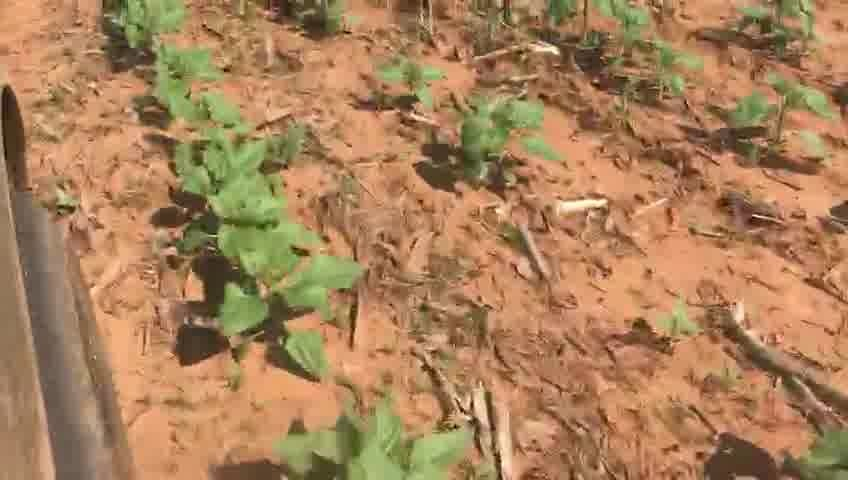sunflower: (196, 215, 378, 379), (271, 391, 500, 474), (159, 114, 313, 231), (437, 90, 573, 174), (735, 70, 832, 166), (138, 44, 242, 130), (707, 411, 840, 478), (620, 37, 700, 105), (99, 6, 192, 53), (369, 53, 443, 110), (584, 3, 650, 62), (645, 292, 704, 346), (280, 4, 354, 45)
